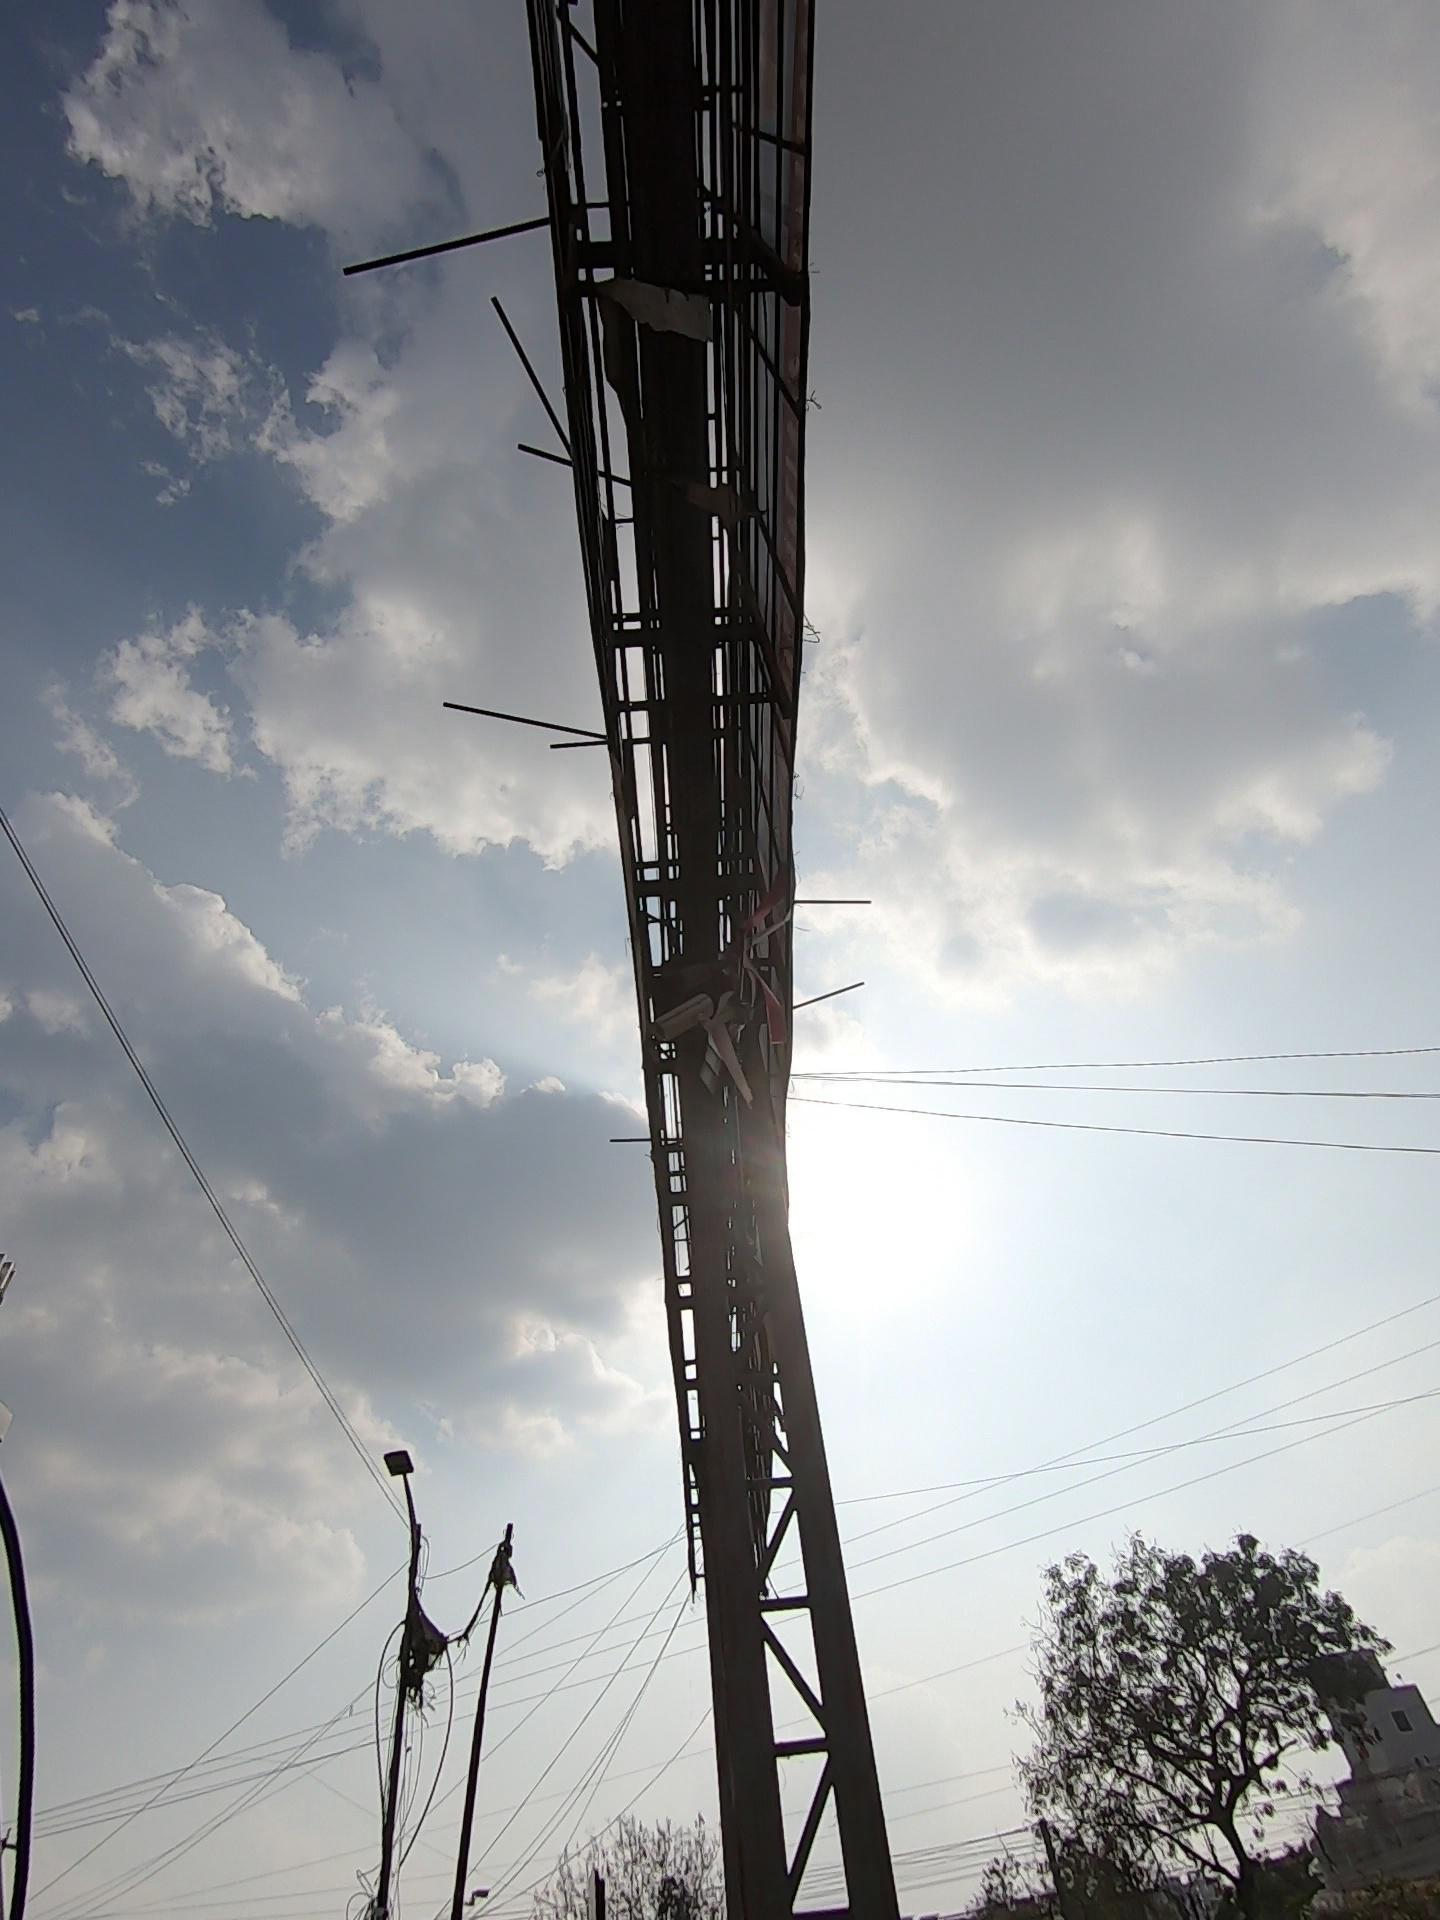off: (299, 1417, 647, 1648)
